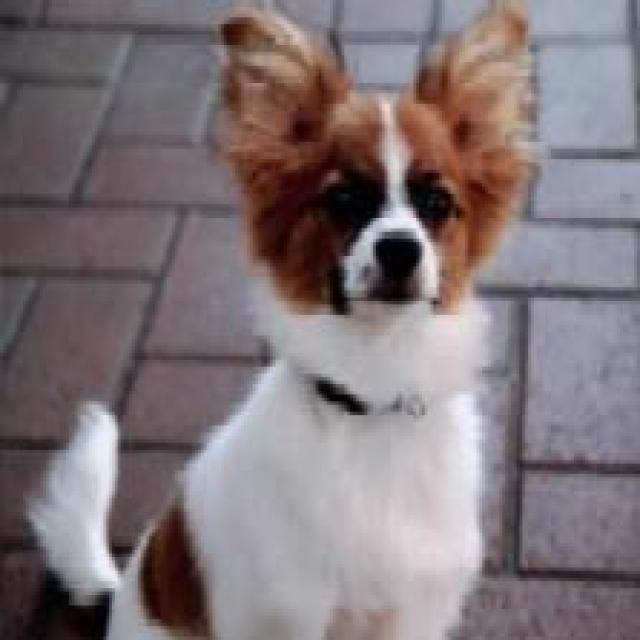papillon: (20, 7, 543, 633)
